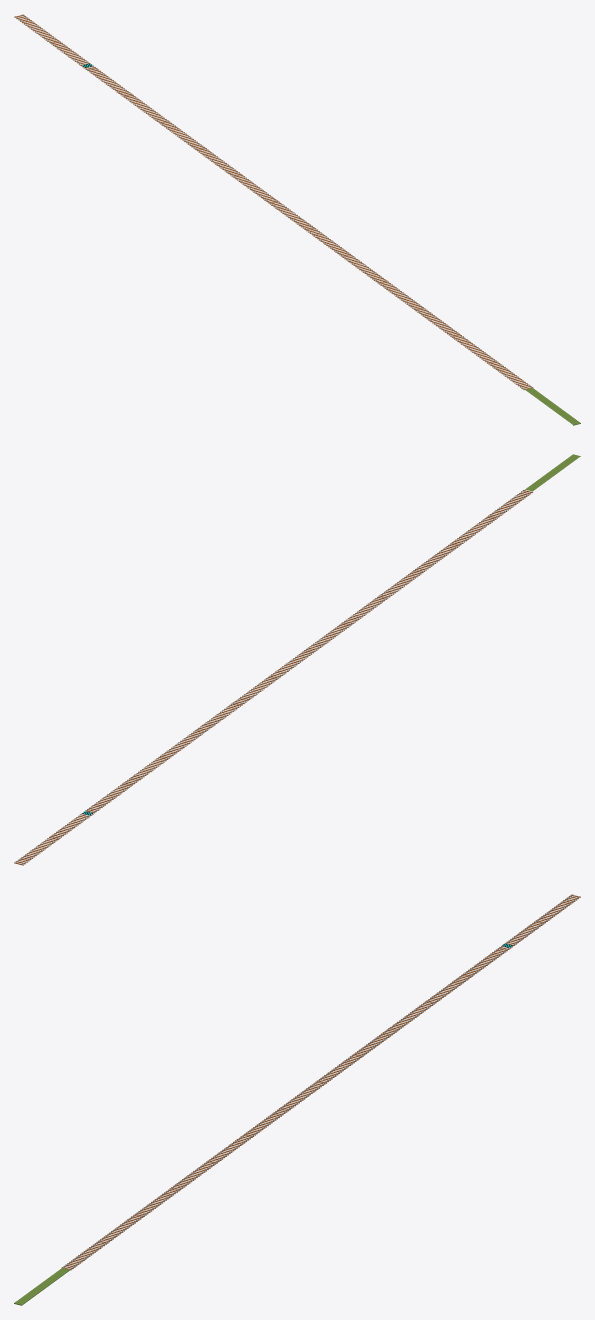
File: Roud lvl5.fbx
3 views of the same model, one above another, from view 1: azimuth 30°, elevation 25°; view 2: azimuth 150°, elevation 25°; view 3: azimuth 330°, elevation 25° (orthographic).
Visible parts, largest first — view 1: roud.001; view 2: roud.001; view 3: roud.001.
Boxes of the visible parts, x1,y1,x2,y2 form: roud.001: (14,14,533,389); roud.001: (14,489,532,865); roud.001: (61,894,580,1270).
Size of the model in its own units: 752 by 63.82 by 73909.
